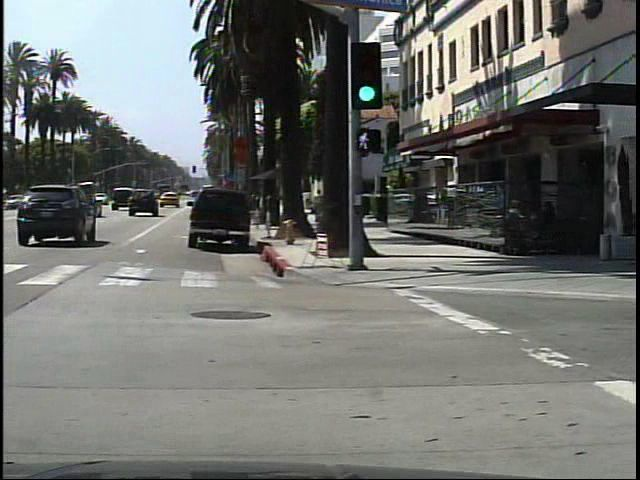person: (316, 185, 328, 227)
